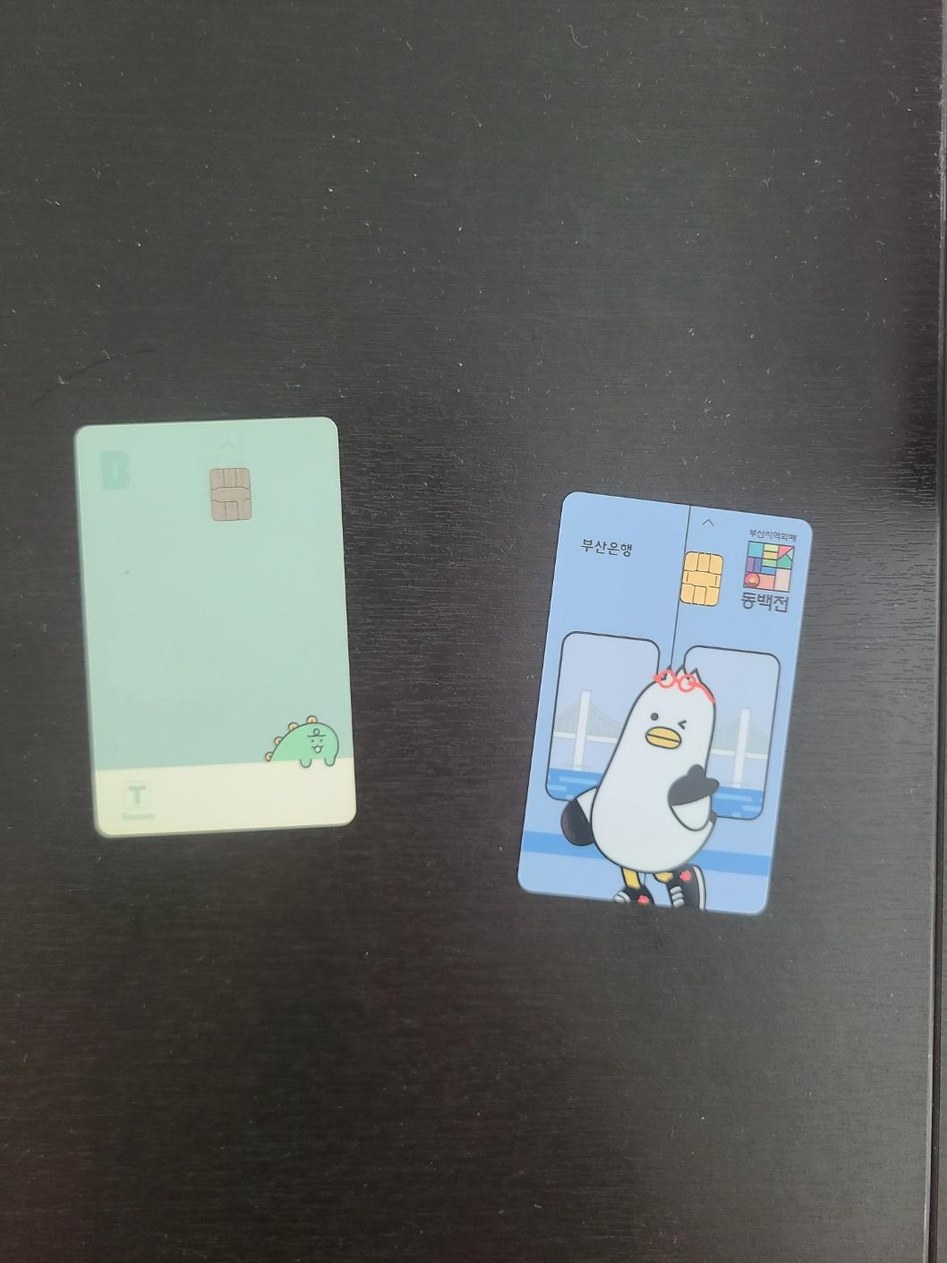Credit_card: (518, 493, 811, 914), (77, 418, 354, 837)
